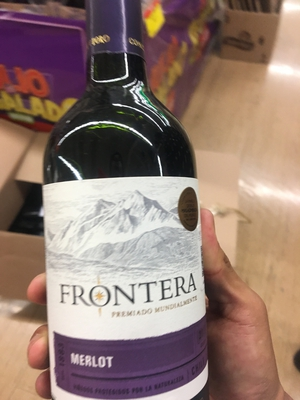frontera merlot: (41, 8, 213, 400)
